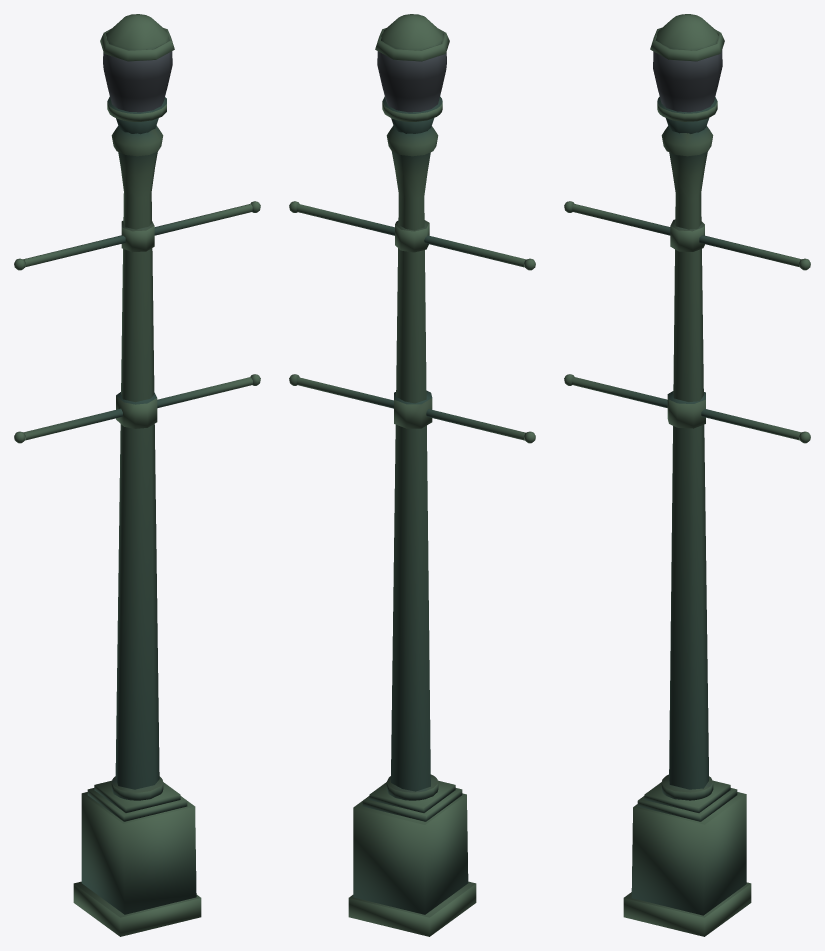
3 renders of one model, left to right at view 1: azimuth 30°, elevation 25°; view 2: azimuth 150°, elevation 25°; view 3: azimuth 330°, elevation 25°, orthographic.
Visible parts, largest first — view 1: base.055; view 2: base.055; view 3: base.055.
Part boxes in pixels (x1=…): base.055: x1=14, y1=14, x2=260, y2=936; base.055: x1=289, y1=14, x2=535, y2=936; base.055: x1=564, y1=14, x2=810, y2=936.
Size of the model in its own units: 0.1434 by 0.5 by 0.0475.
